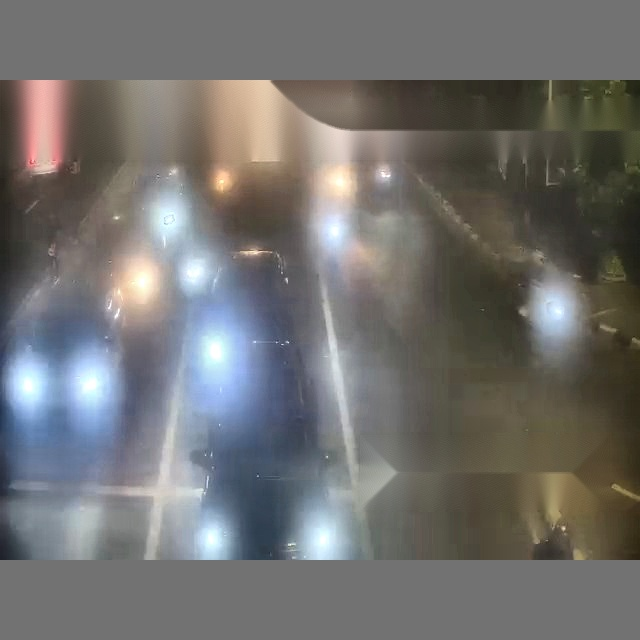Truk: (20, 80, 74, 174)
